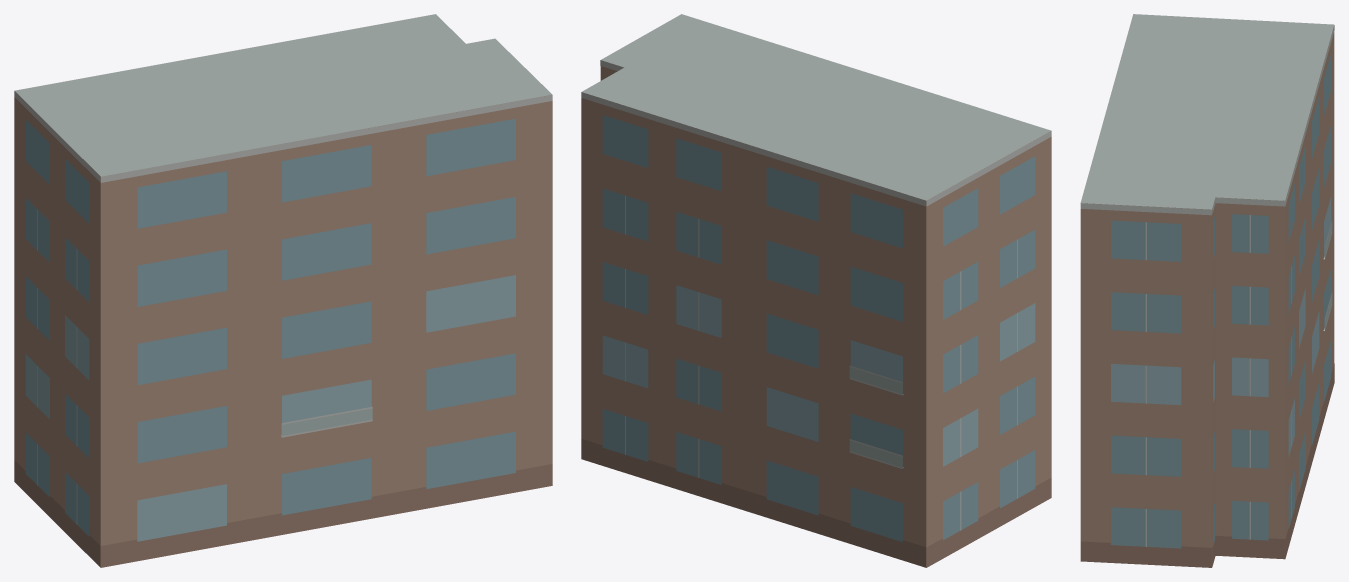
File: survey-upis-32986396.glb
3 renders of one model, left to right at view 1: azimuth 30°, elevation 25°; view 2: azimuth 150°, elevation 25°; view 3: azimuth 270°, elevation 25°, orthographic. The views are drawn at different scales.
Visible parts, largest first — view 1: survey-upis-32986396.tmp; view 2: survey-upis-32986396.tmp; view 3: survey-upis-32986396.tmp.
Part boxes in pixels (x1=…): survey-upis-32986396.tmp: x1=14, y1=14, x2=552, y2=567; survey-upis-32986396.tmp: x1=581, y1=14, x2=1051, y2=567; survey-upis-32986396.tmp: x1=1080, y1=14, x2=1334, y2=567.
Size of the model in its own units: 17.86 by 15.25 by 9.81.
